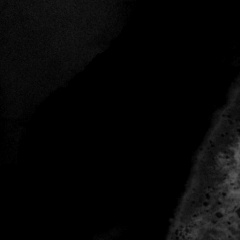Vegetation: (216, 150, 240, 240), (192, 196, 217, 240), (180, 222, 194, 240)
